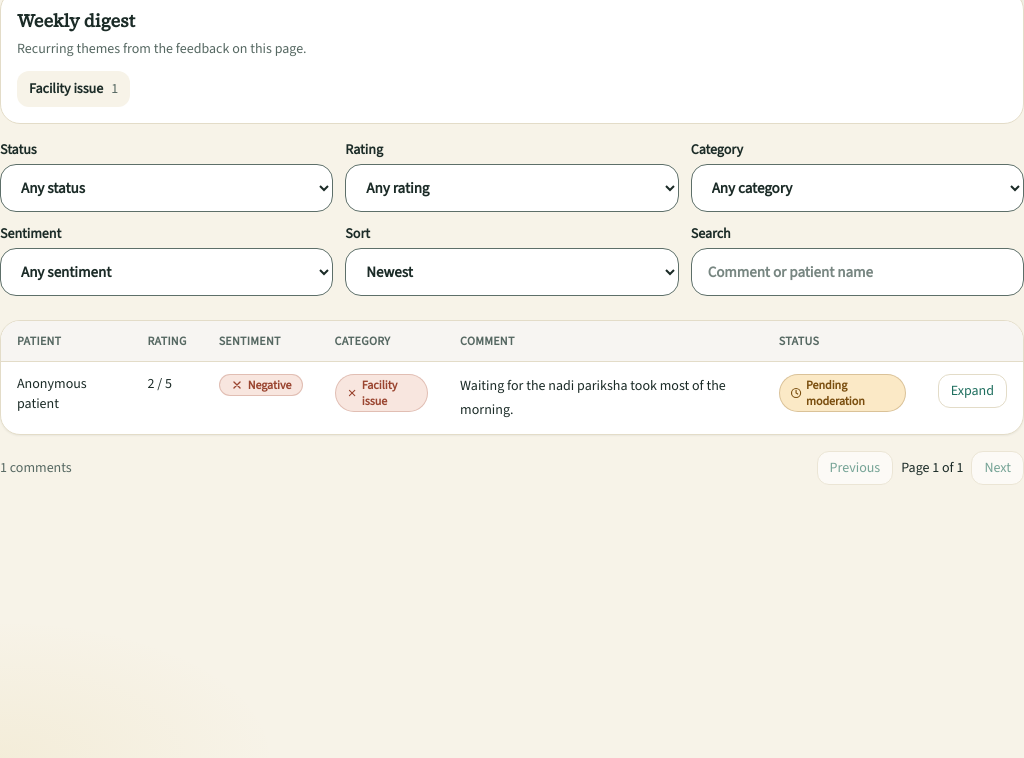
Test case: FeedbackDashboardPage › rejects an AI draft
The width and height of the screenshot is (1024, 758).
Expected: the text "Waiting for the nadi pariksha took most of the morning." is shown, [460, 374, 747, 422]
Click the button named "expand feedback from anonymous patient": (972, 391) [938, 374, 1007, 408]
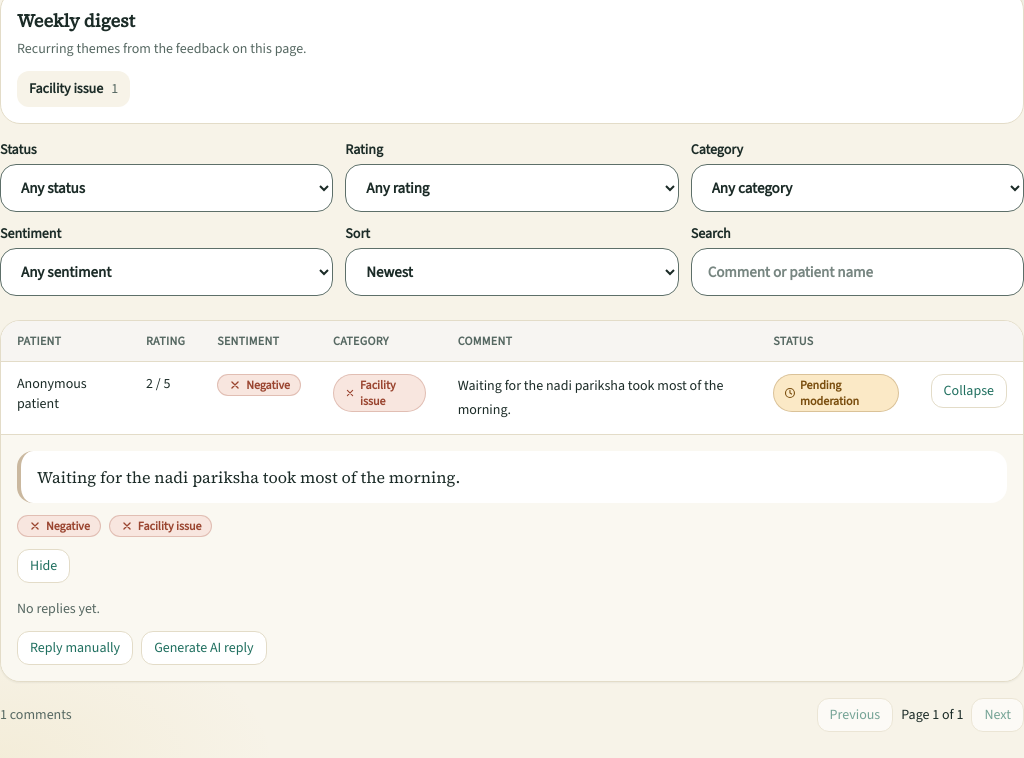
Click the button "Generate AI reply": (204, 648) [141, 631, 267, 665]
(page scrolled)
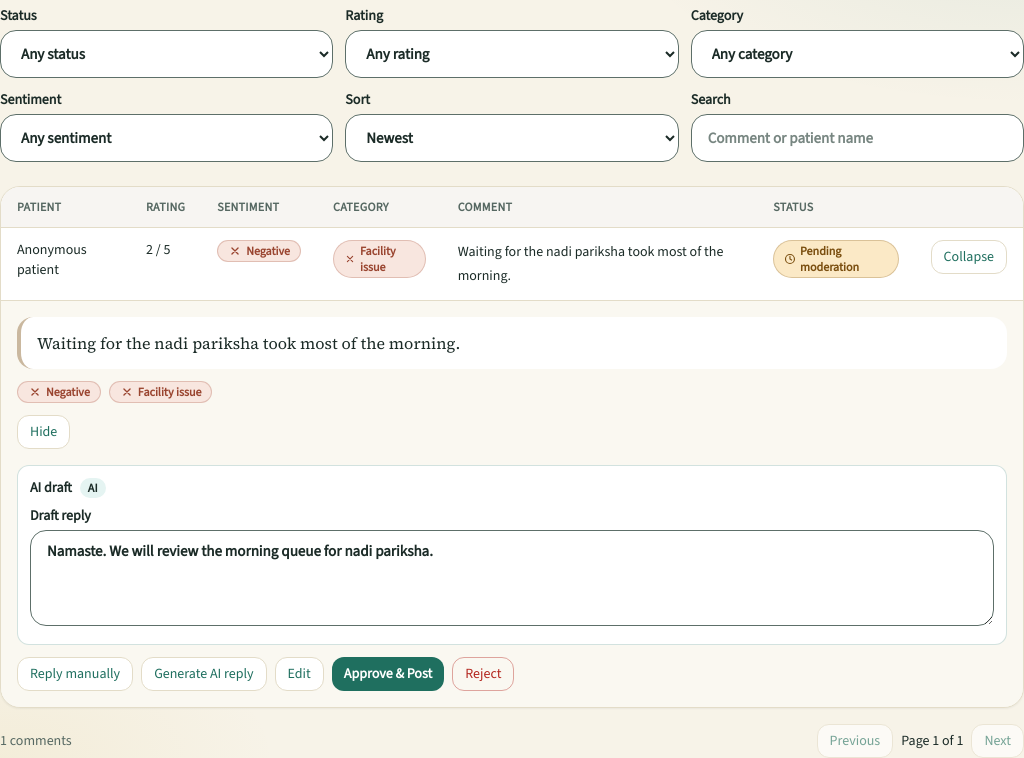
Click the button "Reject": (483, 674) [452, 657, 514, 691]
(page scrolled)
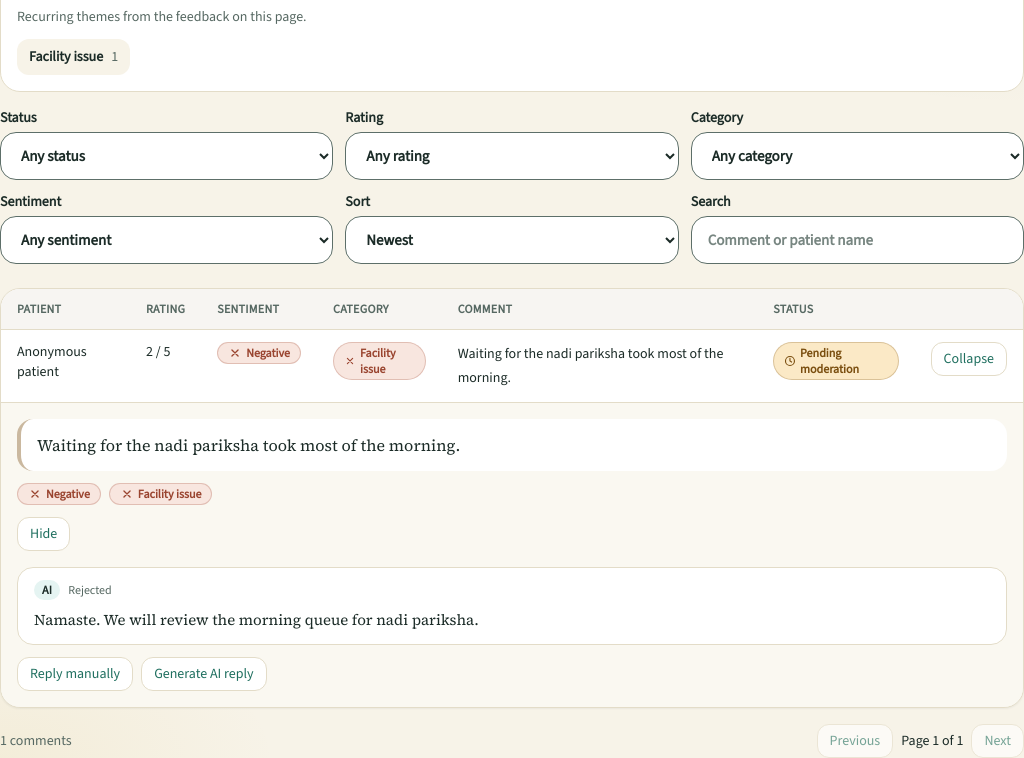
Expected: the text "Rejected" is shown, [68, 582, 112, 598]
Expected: the button "Approve & Post" is gone
